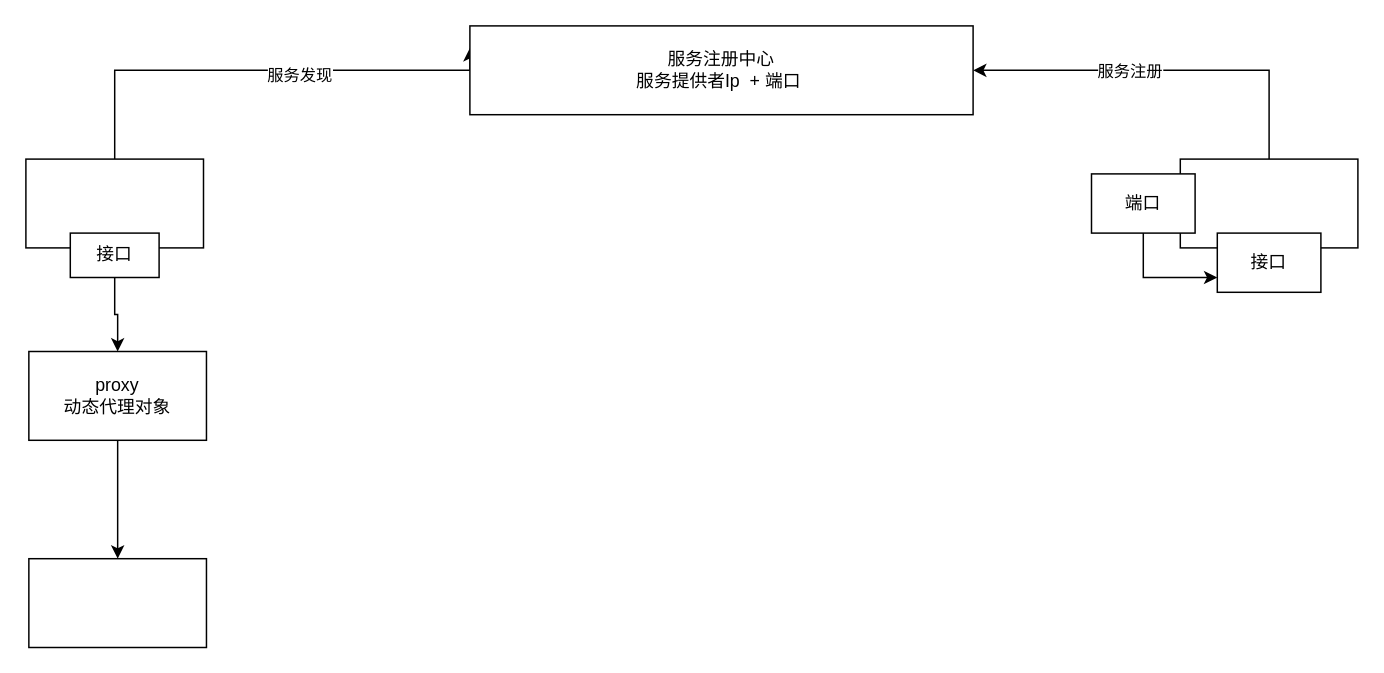
The diagram is 1384 pixels wide and 673 high, and some of its shapes have lost their labels. Here are the shapes that lost their labels. From the top down, the centre of each, then its label:
At point 114,203: "服务消费者".
At point 1268,203: "服务提供者".
At point 116,602: "cluster 负载均衡".
